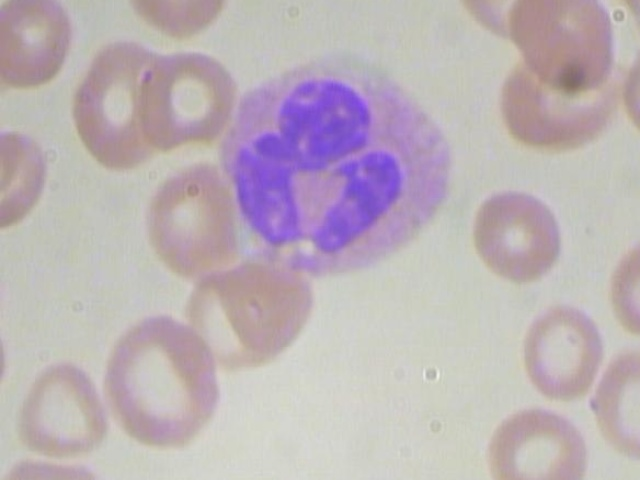RBC: (96, 311, 233, 453), (68, 36, 176, 178), (141, 155, 249, 284), (131, 46, 244, 153), (12, 353, 114, 463), (210, 251, 317, 355), (464, 183, 571, 286), (512, 296, 608, 402), (481, 403, 600, 480), (0, 0, 73, 95), (588, 345, 640, 467), (592, 234, 640, 343), (0, 451, 117, 480), (218, 475, 314, 480)
WBC: (199, 38, 467, 306)
